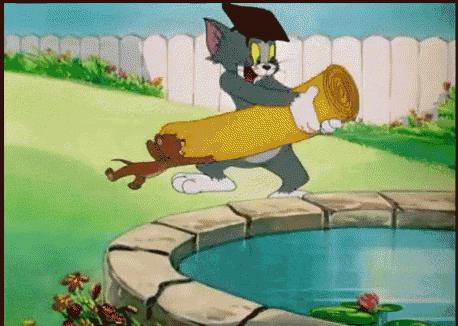jerry: (104, 133, 217, 192)
